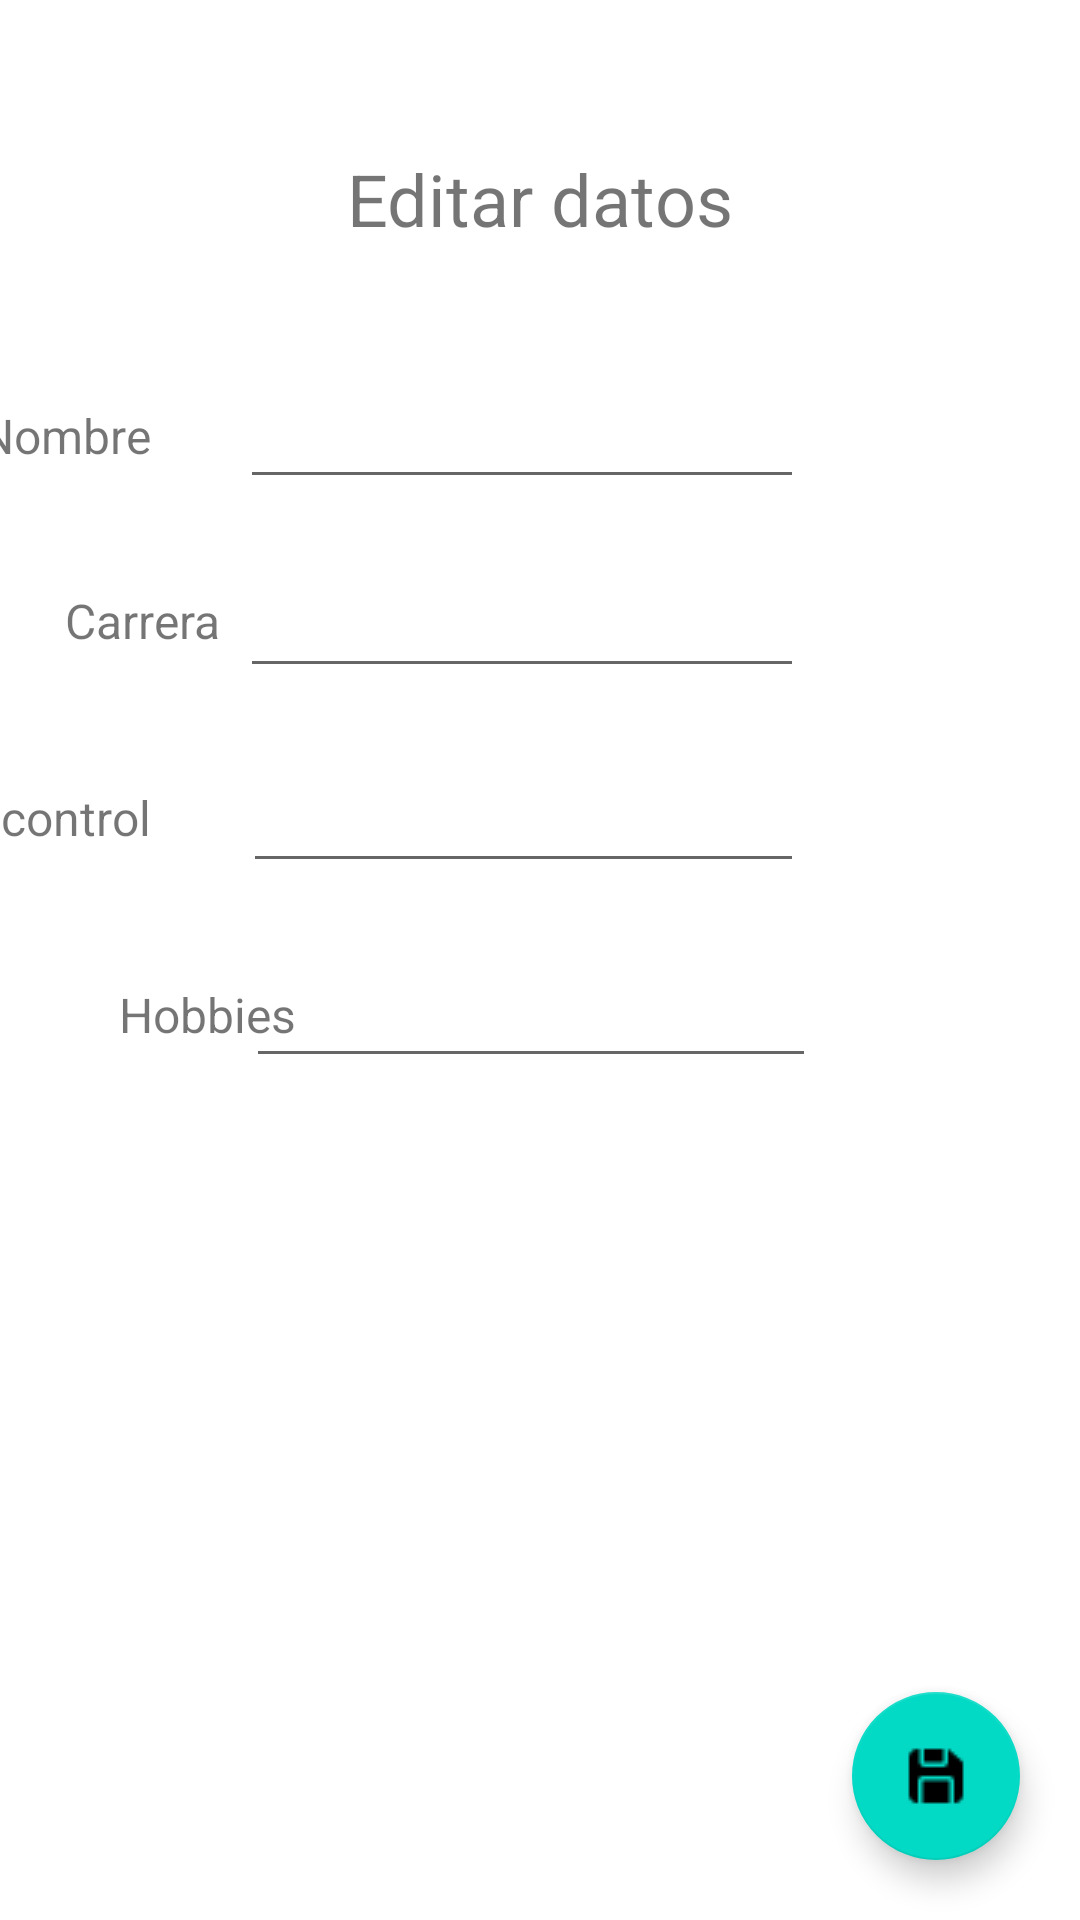

Screen size 1080px x 1920px. Icon name, then its box in pixels as Rect(x1, y1, x2, y2):
save: Rect(852, 1692, 1020, 1860)
